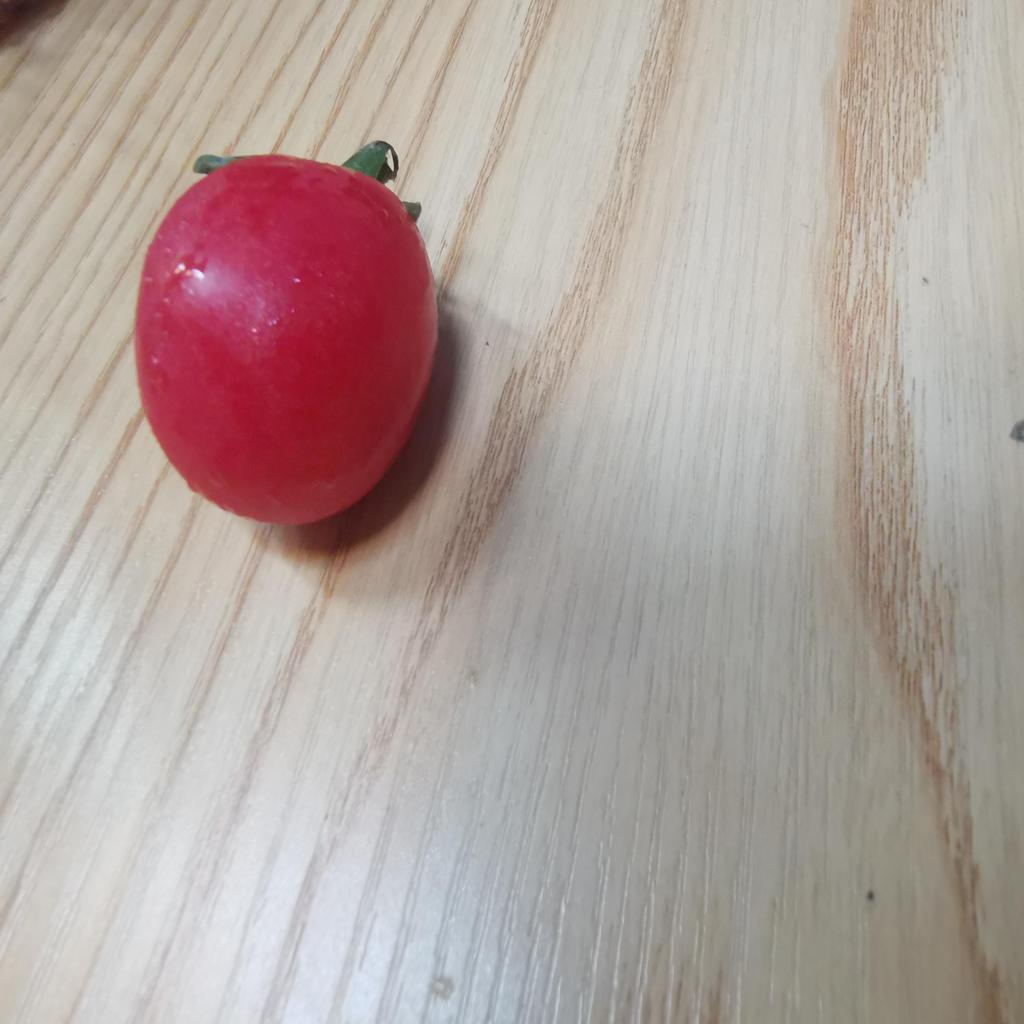tomato: (135, 146, 449, 520)
